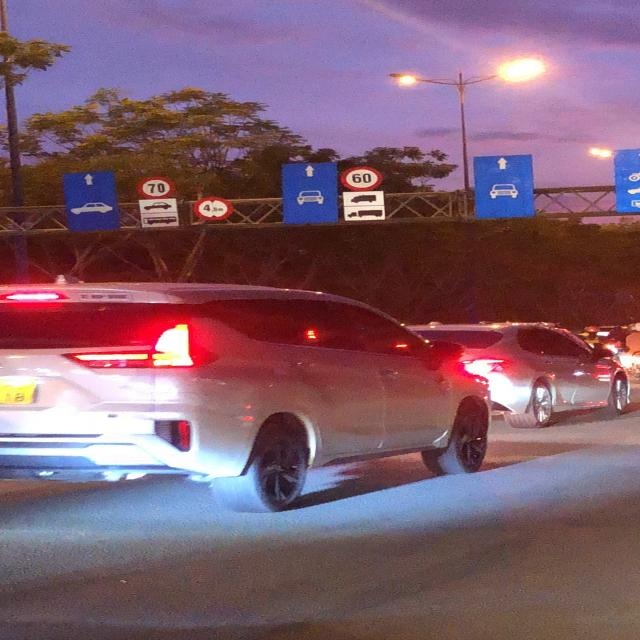Bien bao han che chieu cao: (188, 195, 242, 225)
Bien bao toc do toi da cho phep: (338, 163, 388, 194), (132, 173, 176, 200)
